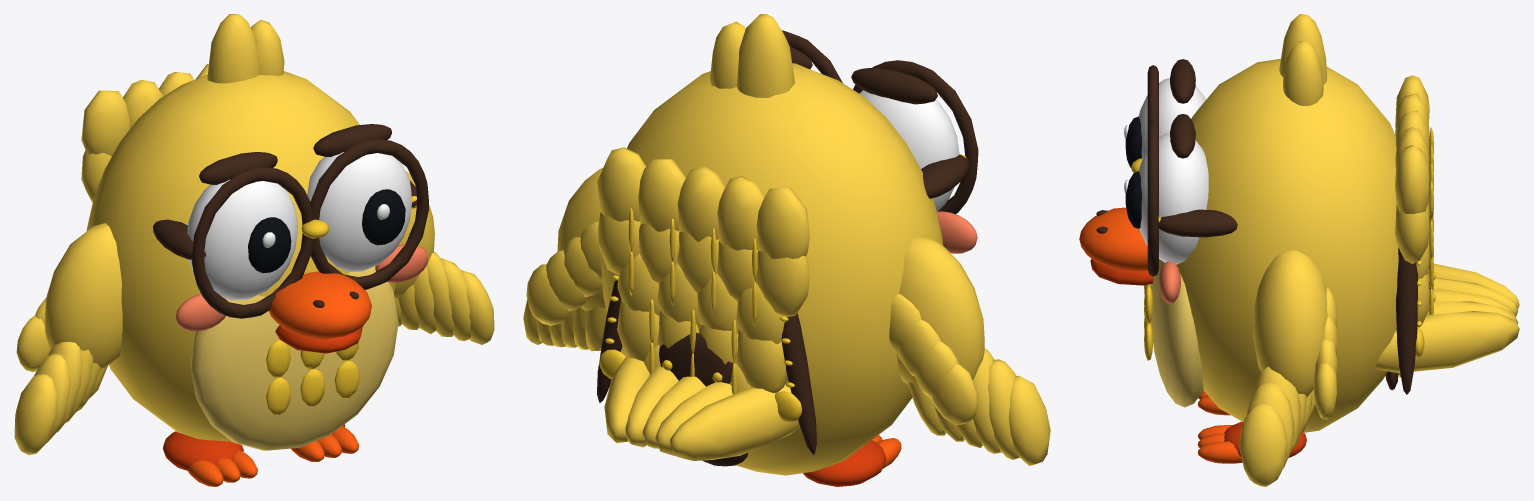
File: bird-lod.glb
3 views of the same model, side by side, from view 1: azimuth 30°, elevation 25°; view 2: azimuth 150°, elevation 25°; view 3: azimuth 270°, elevation 25° (orthographic). The views are drawn at different scales.
Visible parts, largest first — view 1: Details, Body, WingL, WingR, BeakLower; view 2: Body, Details, WingL, WingR; view 3: Body, Details, WingR, BeakLower.
Boxes of the visible parts, x1,y1,x2,y2 form: Details: (153,124,428,486); Body: (81,14,396,441); WingL: (14,223,122,455); WingR: (394,170,494,344); BeakLower: (275,325,362,353); Body: (597,14,943,475); Details: (597,30,978,486); WingL: (889,236,1050,465); WingR: (523,168,606,351); Body: (1176,14,1519,432); Details: (1079,59,1435,463); WingR: (1239,250,1337,486); BeakLower: (1090,259,1153,285).
Bounding box in the file's own units: 2.9 × 2.48 × 2.38.
2 materials, 1 textured.
